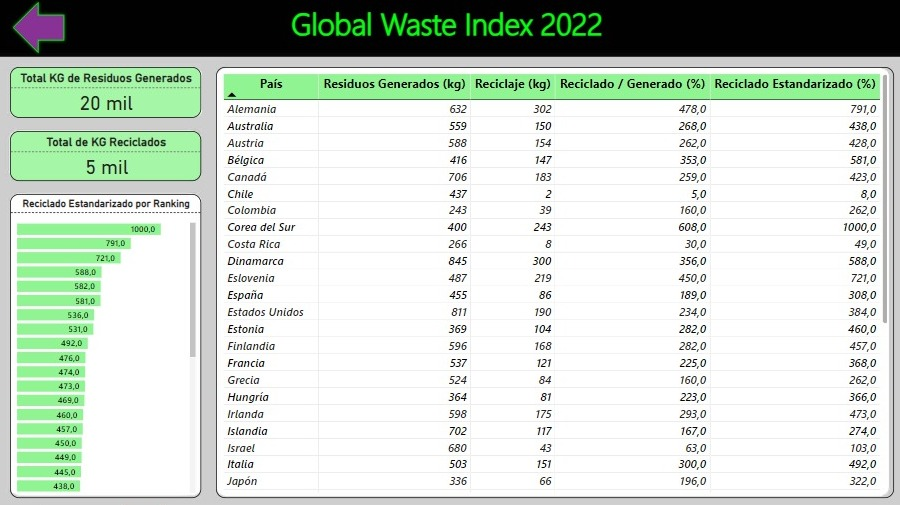

This screenshot's page, from the dashboard's own definition file:
{"tool":"powerbi","page":{"name":"Detalles","canvas":[1280,720],"ordinal":1},"visuals":[{"type":"textbox","box":[240.6,0,800,81.2],"z":0},{"type":"shape","box":[16.2,0,80.9,80.9],"z":1000},{"type":"tableEx","fields":{"Values":["Reciduos 2023 por Sensoneo. País               ","Reciduos 2023 por Sensoneo. Residuos Generados (kg) ","Reciduos 2023 por Sensoneo. Reciclaje (kg) ","Reciduos 2023 por Sensoneo. Reciclado / Generado (%) ","Reciduos 2023 por Sensoneo. Reciclado Estandarizado (%) "]},"box":[307.4,97.1,951.5,610.3],"z":2000},{"type":"card","title":"Total KG de Residuos Generados","fields":{"Values":["Reciduos 2023 por Sensoneo.Total Generado"]},"box":[15.6,96.4,270.7,72.3],"z":3000},{"type":"card","title":"Total de KG Reciclados","fields":{"Values":["Reciduos 2023 por Sensoneo.Total Reciclaje"]},"box":[15.7,186.9,271.1,71.3],"z":4000},{"type":"clusteredBarChart","title":"Reciclado Estandarizado por Ranking ","fields":{"Y":["Sum(Reciduos 2023 por Sensoneo. Reciclado Estandarizado (%) )"],"Category":["Reciduos 2023 por Sensoneo. País               "]},"box":[15.6,276.4,270.7,430.9],"z":5000}]}

Visuals, with their boxes in screenshot pixels (x1, y1, x2, y2), scaled from the page's 1280x720 canvas onto the 900x505 screenshot:
textbox: 169:0:732:57
shape: 11:0:68:57
tableEx - Reciduos 2023 por Sensoneo. País                x Reciduos 2023 por Sensoneo. Residuos Generados (kg) : 216:68:885:496
"Total KG de Residuos Generados" card: 11:68:201:118
"Total de KG Reciclados" card: 11:131:202:181
"Reciclado Estandarizado por Ranking " clusteredBarChart: 11:194:201:496
